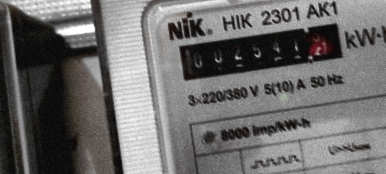0: (189, 47, 204, 69), (209, 42, 224, 64)
1: (288, 32, 301, 54)
2: (229, 40, 244, 62)
4: (269, 34, 283, 56)
5: (248, 37, 263, 60)
6: (311, 41, 324, 58)
screen: (167, 11, 354, 90)
